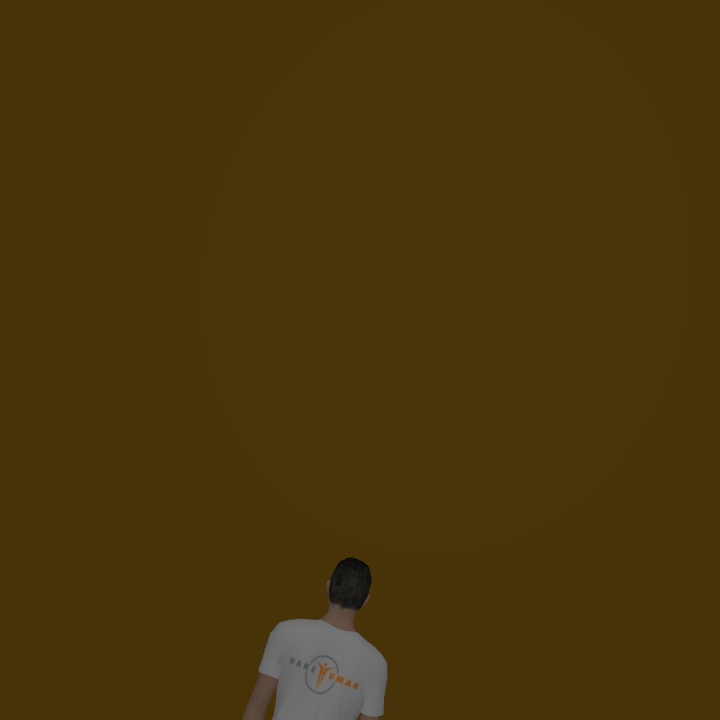victim: (242, 556, 390, 715)
